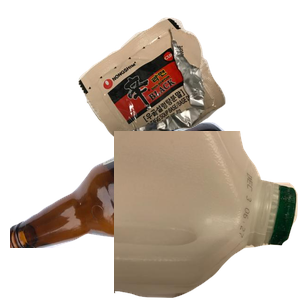glass: (10, 120, 247, 300)
metal: (84, 53, 279, 202)
plastic: (114, 131, 300, 300)
trash: (76, 15, 300, 145)
